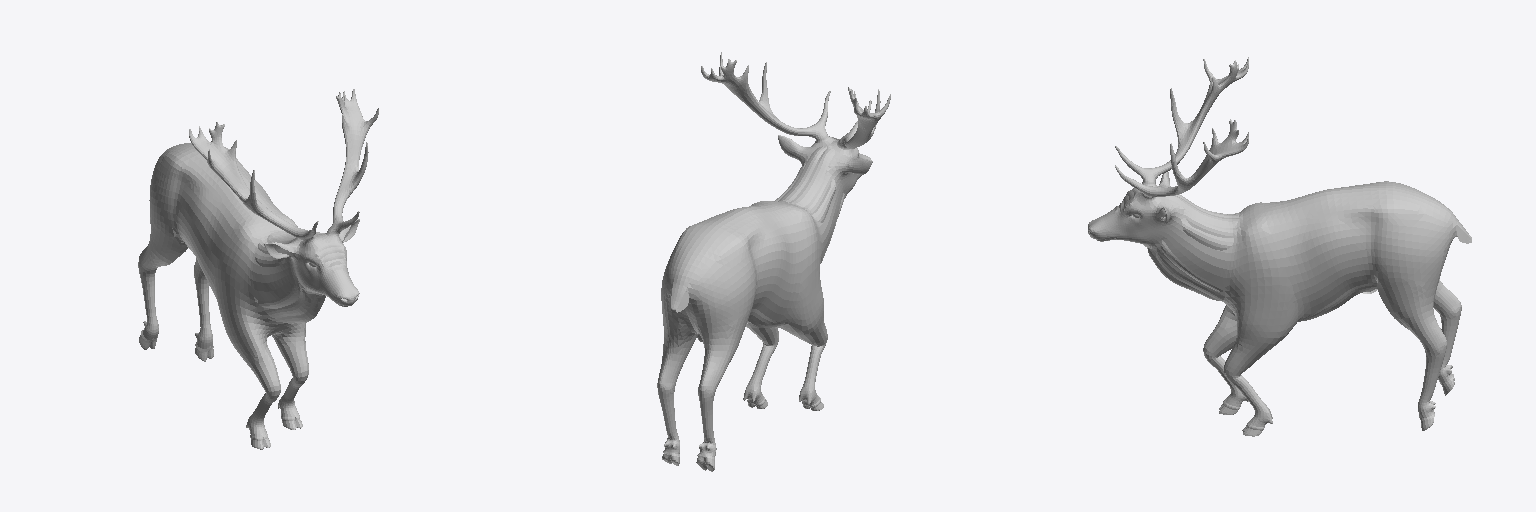
Rendered from frame_0023_uv.obj.
3 views of the same model, side by side, from view 1: azimuth 30°, elevation 25°; view 2: azimuth 150°, elevation 25°; view 3: azimuth 270°, elevation 25° (orthographic).
Parts seen in each view (by area): view 1: pMesh1; view 2: pMesh1; view 3: pMesh1.
Part boxes in pixels (bbox=[...]): pMesh1: bbox=[138, 89, 378, 449]; pMesh1: bbox=[657, 52, 890, 471]; pMesh1: bbox=[1088, 57, 1471, 436].
Size of the model in its own units: 1.05 by 1.95 by 2.05.